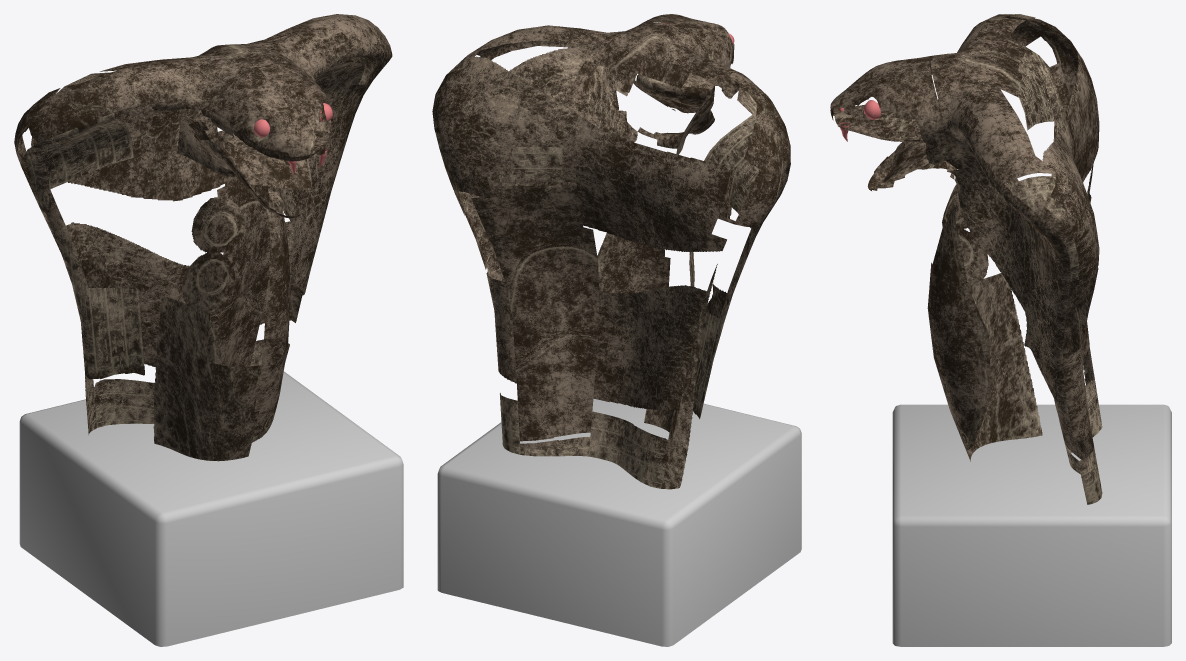
Rendered from wonsz_statue.fbx.
3 renders of one model, left to right at view 1: azimuth 30°, elevation 25°; view 2: azimuth 150°, elevation 25°; view 3: azimuth 270°, elevation 25°, orthographic. The views are drawn at different scales.
Parts seen in each view (by area): view 1: wonsz_low_2.0, wonsz_podest_low; view 2: wonsz_low_2.0, wonsz_podest_low; view 3: wonsz_low_2.0, wonsz_podest_low.
Boxes of the visible parts, x1=… form: wonsz_low_2.0: x1=14, y1=14, x2=392, y2=461; wonsz_podest_low: x1=19, y1=371, x2=403, y2=646; wonsz_low_2.0: x1=432, y1=14, x2=790, y2=489; wonsz_podest_low: x1=437, y1=398, x2=801, y2=646; wonsz_low_2.0: x1=830, y1=14, x2=1102, y2=504; wonsz_podest_low: x1=892, y1=404, x2=1171, y2=646.
Size of the model in its own units: 1740 by 2454 by 1443.
